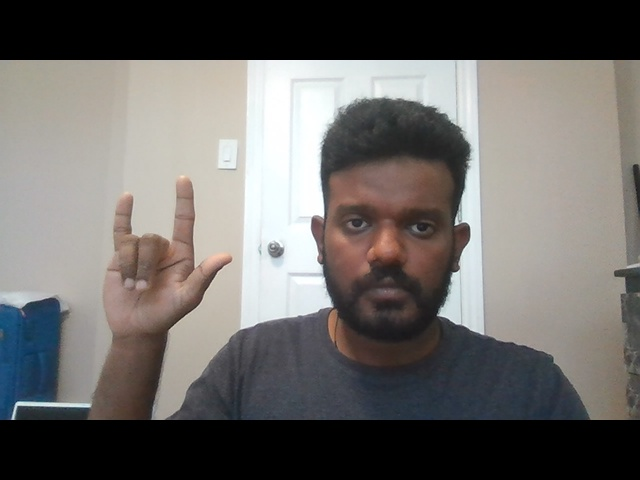iloveyou: (94, 173, 235, 331)
